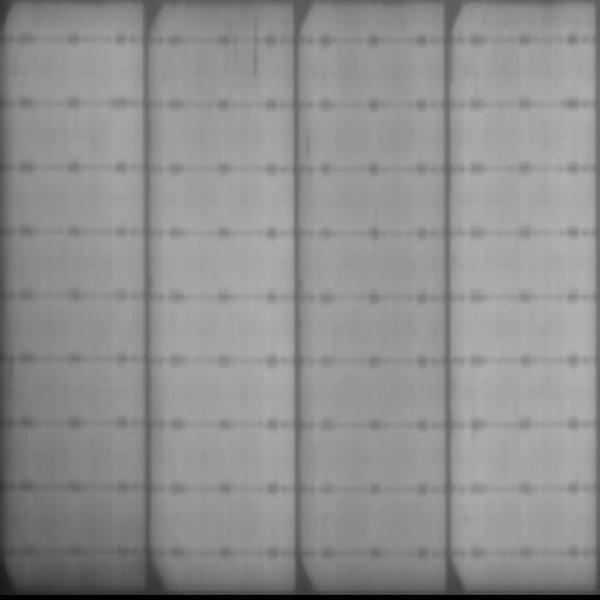scratch: (249, 7, 262, 80)
